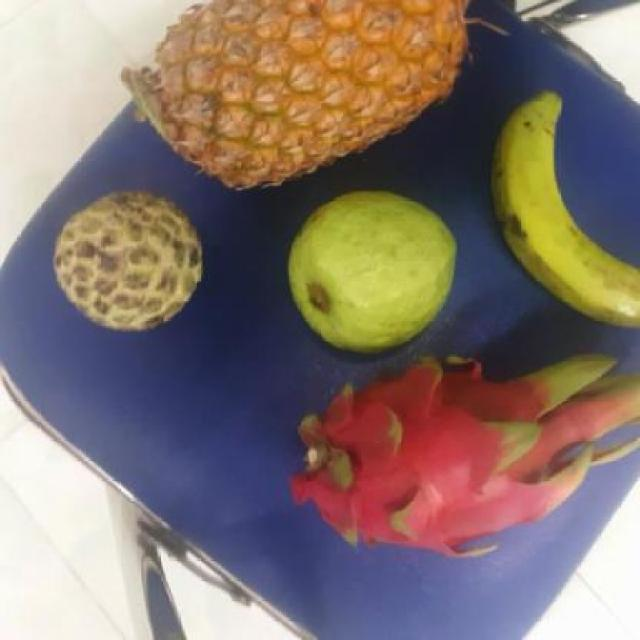banana: (488, 91, 640, 334)
dragon fruit: (293, 351, 602, 558)
guava: (289, 195, 462, 354)
pineapple: (138, 1, 465, 188)
sugar apple: (56, 194, 210, 331)
